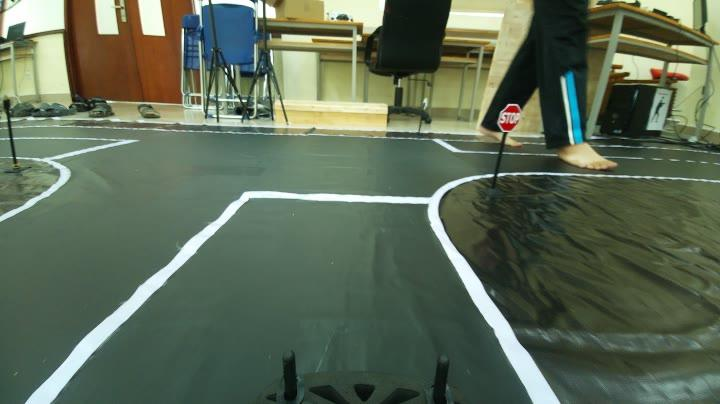stop: (495, 100, 524, 132)
